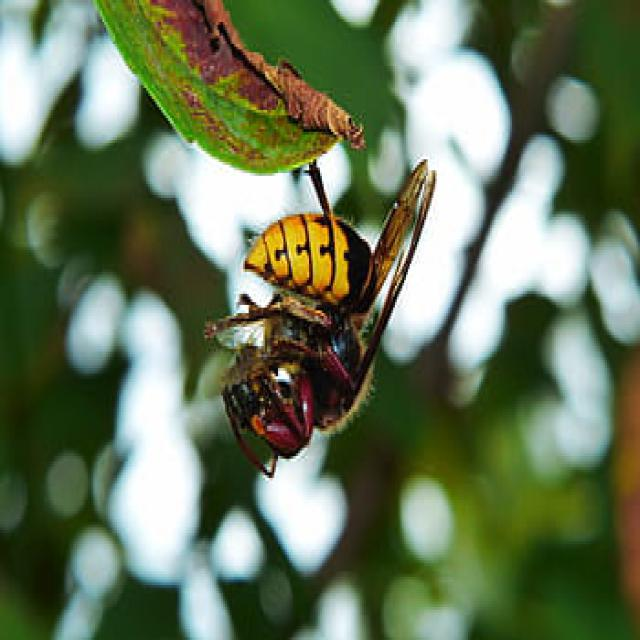Vespa Crabro: (191, 93, 437, 500)
